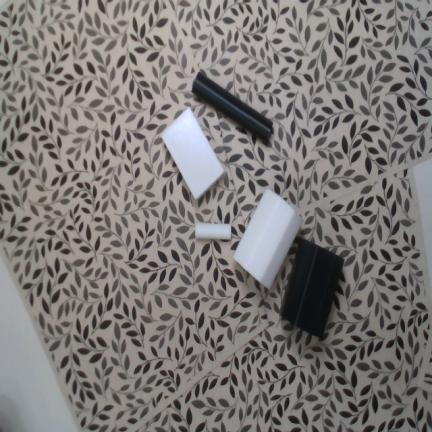Cilindro: (192, 72, 272, 140), (195, 223, 231, 240)
Paralelepipedo: (161, 108, 225, 200)
Prisma_hexagonal: (233, 188, 303, 291), (279, 238, 345, 338)
